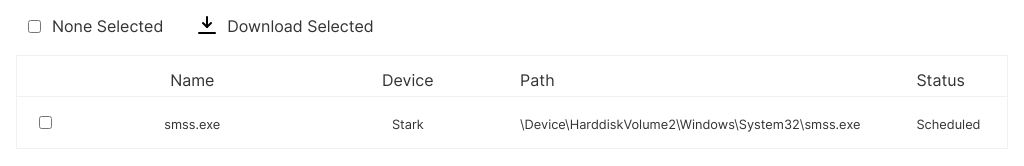
Test: Test Assessment › select-all checkbox test cases › Clicking the select-all checkbox should de-select all items if all are currently selected.
The image size is (1024, 166).
What coordinates should you click on to do the following:
click the checkbox with test id "select-all"
I would click on:
 (34, 26)
Its box is 28,20 -> 41,32.
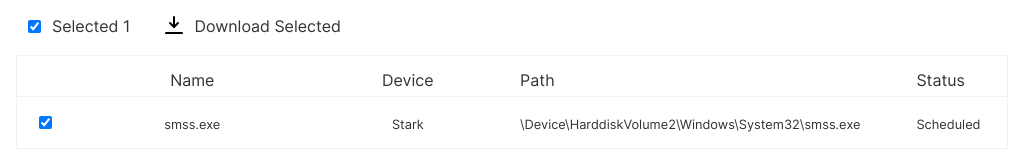
What coordinates should you click on to do the following:
click the checkbox with test id "select-all"
I would click on:
 (34, 26)
Its box is 28,20 -> 41,32.
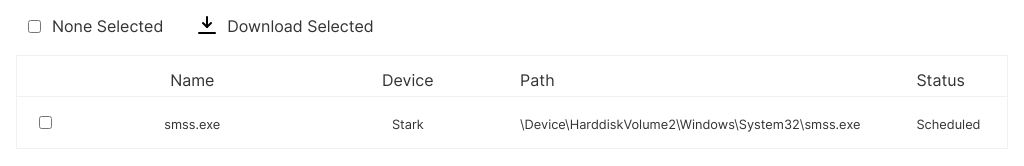
Expected: the checkbox with test id "row-smss.exe" is not checked, 39,116 -> 52,129
